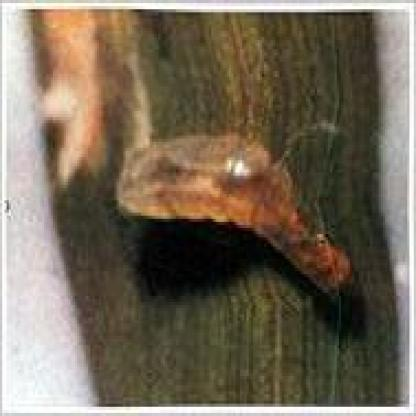whorl-maggot: (115, 133, 352, 301)
